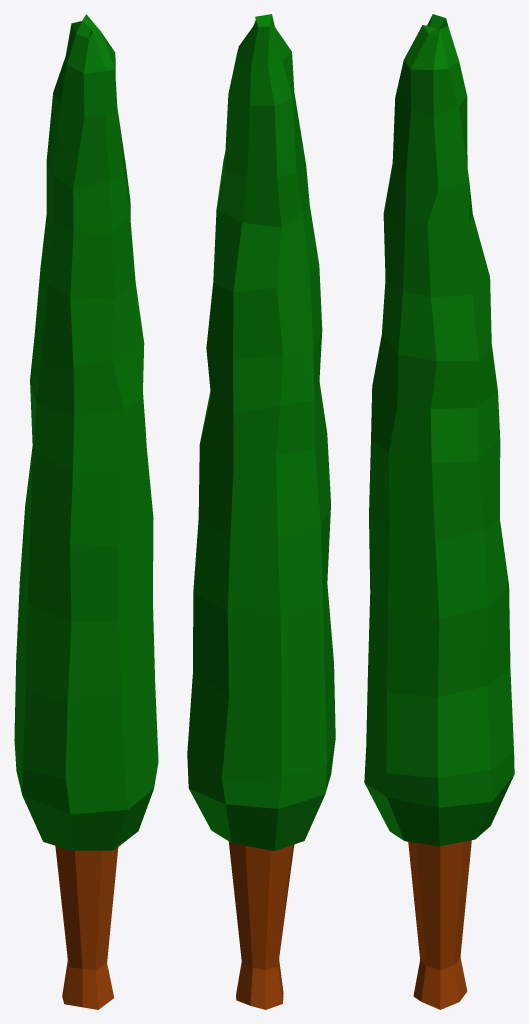
File: tree.fbx
3 renders of one model, left to right at view 1: azimuth 30°, elevation 25°; view 2: azimuth 150°, elevation 25°; view 3: azimuth 270°, elevation 25°, orthographic.
Visible parts, largest first — view 1: tree; view 2: tree; view 3: tree.
Part boxes in pixels (x1,y1,x2,y2): tree: (14,14,158,1009); tree: (187,14,335,1009); tree: (364,14,514,1009).
Bounding box in the file's own units: 1.54 × 10.86 × 1.51.
